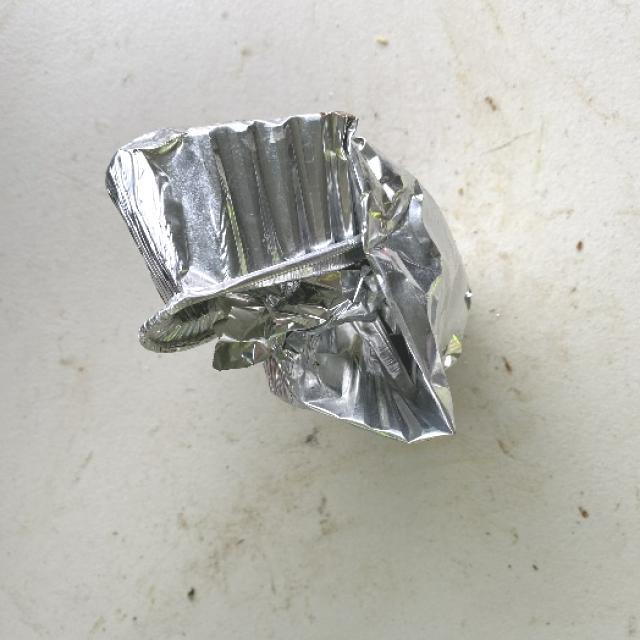kaleng: (102, 88, 469, 504)
